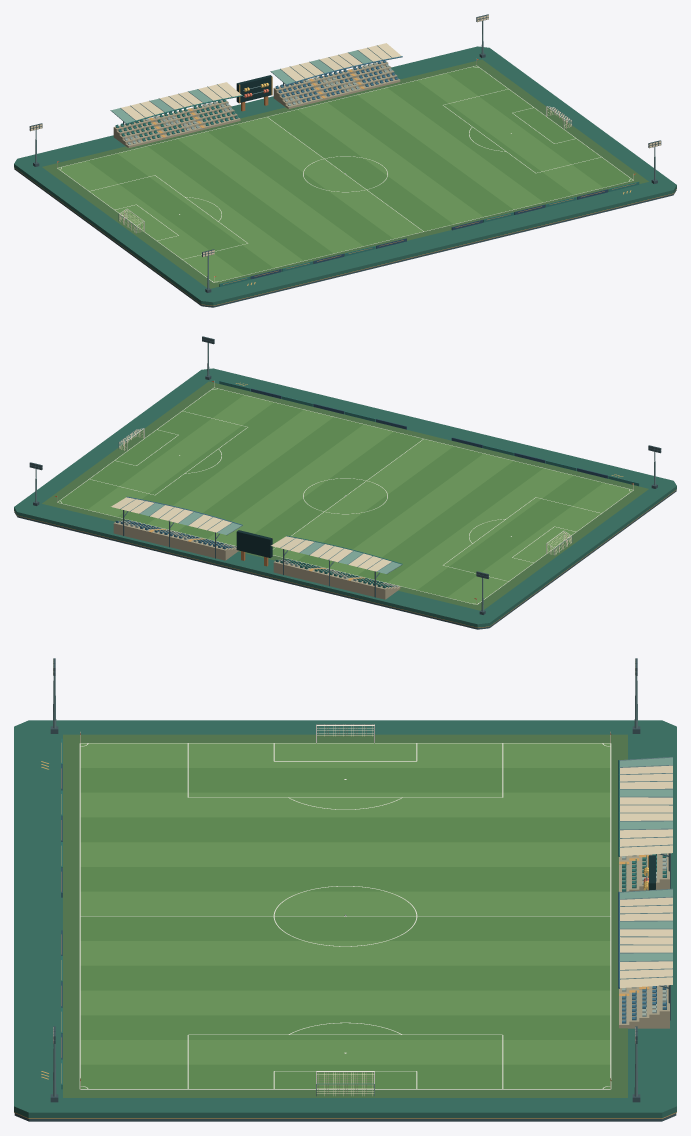
The model's file is football.glb.
3 views of the same model, one above another, from view 1: azimuth 30°, elevation 25°; view 2: azimuth 150°, elevation 25°; view 3: azimuth 270°, elevation 25° (orthographic). The views are drawn at different scales.
Parts seen in each view (by area): view 1: SM_FB_Pitch, SM_FB_Ground, SM_FB_Grandstand, SM_FB_Matchday, SM_FB_Goals; view 2: SM_FB_Pitch, SM_FB_Ground, SM_FB_Grandstand, SM_FB_Matchday, SM_FB_Goals; view 3: SM_FB_Pitch, SM_FB_Ground, SM_FB_Grandstand, SM_FB_Matchday, SM_FB_Goals.
Boxes of the visible parts, bbox=[...] form: SM_FB_Pitch: bbox=[42, 59, 648, 288]; SM_FB_Ground: bbox=[14, 46, 676, 307]; SM_FB_Grandstand: bbox=[110, 43, 402, 147]; SM_FB_Matchday: bbox=[29, 14, 661, 292]; SM_FB_Goals: bbox=[118, 106, 572, 233]; SM_FB_Pitch: bbox=[42, 381, 648, 610]; SM_FB_Ground: bbox=[14, 368, 676, 629]; SM_FB_Grandstand: bbox=[111, 496, 402, 599]; SM_FB_Matchday: bbox=[29, 336, 661, 614]; SM_FB_Goals: bbox=[118, 428, 572, 555]; SM_FB_Pitch: bbox=[41, 731, 627, 1097]; SM_FB_Ground: bbox=[14, 720, 676, 1121]; SM_FB_Grandstand: bbox=[618, 757, 672, 1028]; SM_FB_Matchday: bbox=[50, 658, 655, 1102]; SM_FB_Goals: bbox=[316, 724, 374, 1096].
Bounding box in the file's own units: 119 × 11.11 × 85.
Materials: 1 (1 with a texture image).
